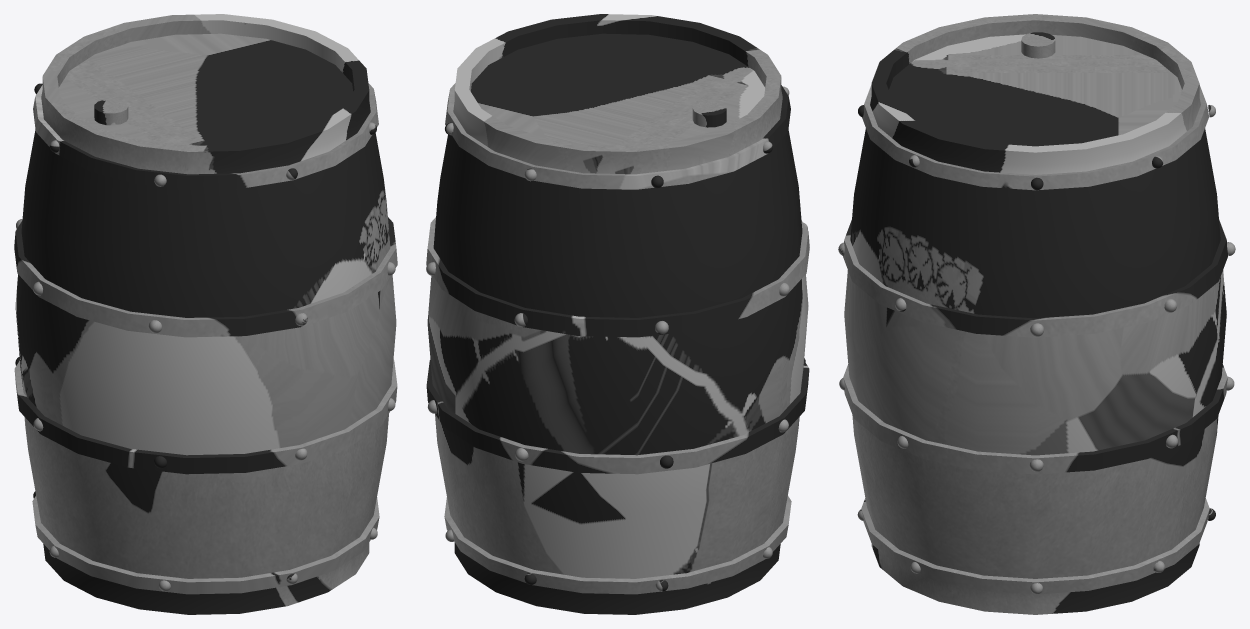
The model's file is barril_cerveza.fbx.
3 views of the same model, side by side, from view 1: azimuth 30°, elevation 25°; view 2: azimuth 150°, elevation 25°; view 3: azimuth 270°, elevation 25° (orthographic).
Parts seen in each view (by area): view 1: pSphere23, pSphere25; view 2: pSphere23, pSphere25; view 3: pSphere23, pSphere25.
Boxes of the visible parts, left/top/right/bottom form: pSphere23: left=14, top=14, right=397, bottom=614; pSphere25: left=15, top=83, right=395, bottom=591; pSphere23: left=426, top=14, right=809, bottom=614; pSphere25: left=426, top=86, right=807, bottom=591; pSphere23: left=843, top=14, right=1227, bottom=614; pSphere25: left=838, top=105, right=1235, bottom=594.
Size of the model in its own units: 2.66 by 3.42 by 2.66.
